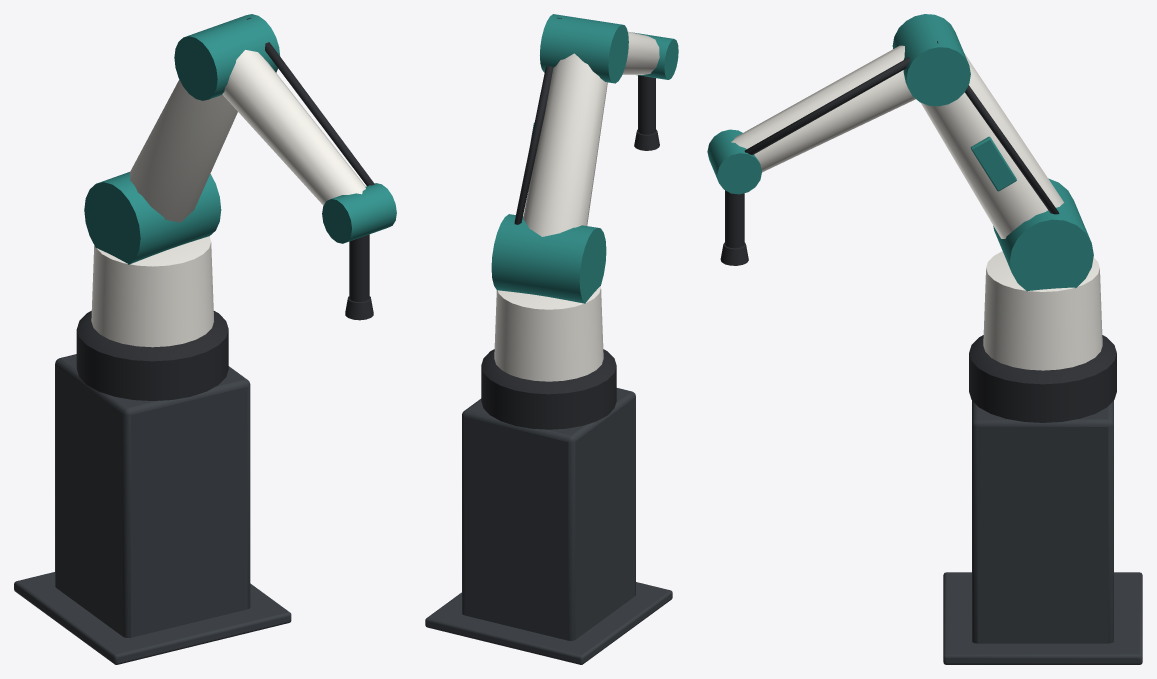
File: robot_3.fbx
The picture shows the model from 3 angles, left to right: view 1: azimuth 30°, elevation 25°; view 2: azimuth 150°, elevation 25°; view 3: azimuth 270°, elevation 25°; orthographic projection. The views are drawn at different scales.
Parts seen in each view (by area): view 1: robot_3; view 2: robot_3; view 3: robot_3.
Part boxes in pixels (x1,y1,x2,y2): robot_3: [14, 14, 396, 664]; robot_3: [425, 14, 678, 664]; robot_3: [707, 14, 1142, 664].
Bounding box in the file's own units: 0.7 × 2.33 × 1.53.
